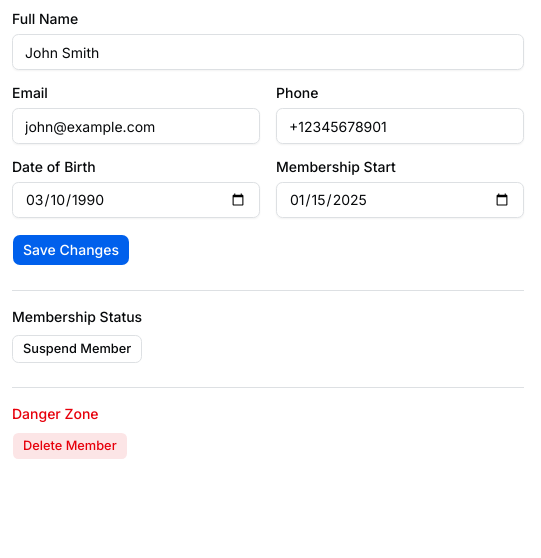
Test: EditMemberForm › editMemberForm_invalidEmail_showsOnlyEmailErrorAndDoesNotCallUpdate
Replace the text in the field labelled "Email" with "not-an-email" at (136, 126), box x1=12 y1=108 x2=260 y2=144
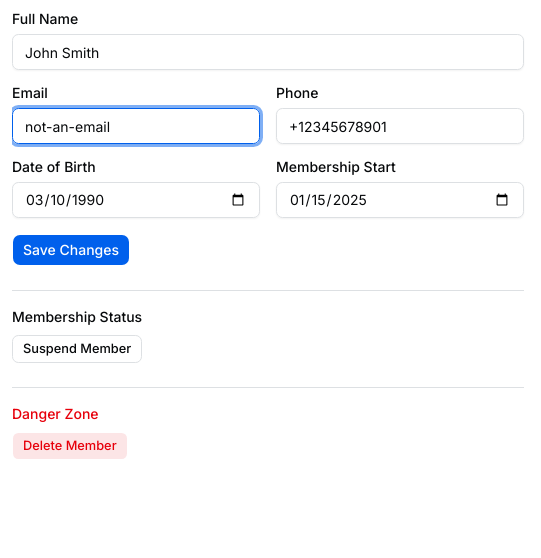
Click the button "Save Changes" at (71, 250), box x1=12 y1=234 x2=130 y2=266
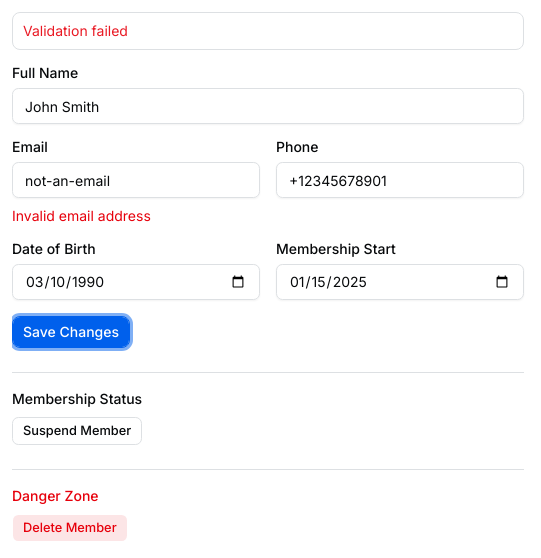
Now the text "Invalid email address" is shown, box x1=12 y1=207 x2=151 y2=224
